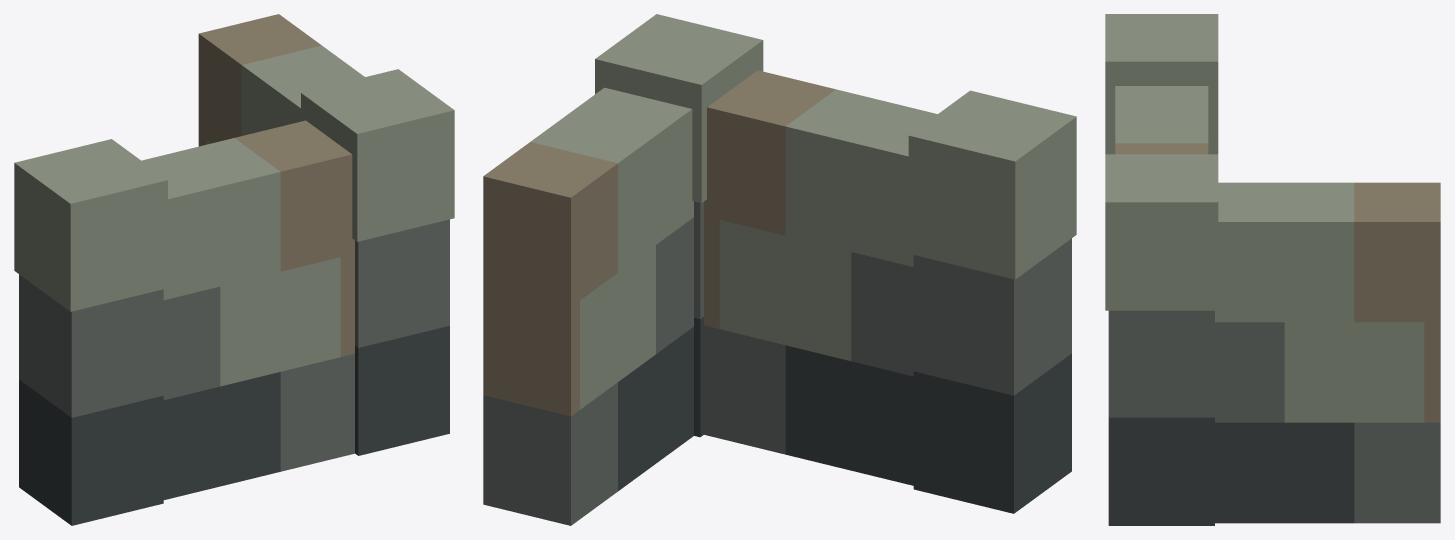
Rendered from TW_STONE_CORNER_L90_A_LOD0.glb.
The picture shows the model from 3 angles, left to right: view 1: azimuth 30°, elevation 25°; view 2: azimuth 150°, elevation 25°; view 3: azimuth 270°, elevation 25°; orthographic projection. The views are drawn at different scales.
Parts seen in each view (by area): view 1: TW_STONE_CORNER_L90_A_LOD0; view 2: TW_STONE_CORNER_L90_A_LOD0; view 3: TW_STONE_CORNER_L90_A_LOD0.
Part boxes in pixels (bbox=[...]): TW_STONE_CORNER_L90_A_LOD0: bbox=[14, 14, 454, 525]; TW_STONE_CORNER_L90_A_LOD0: bbox=[483, 14, 1076, 525]; TW_STONE_CORNER_L90_A_LOD0: bbox=[1105, 14, 1440, 525].
Bounding box in the file's own units: 1.34 × 1.08 × 1.01.
1 material, 1 textured.
